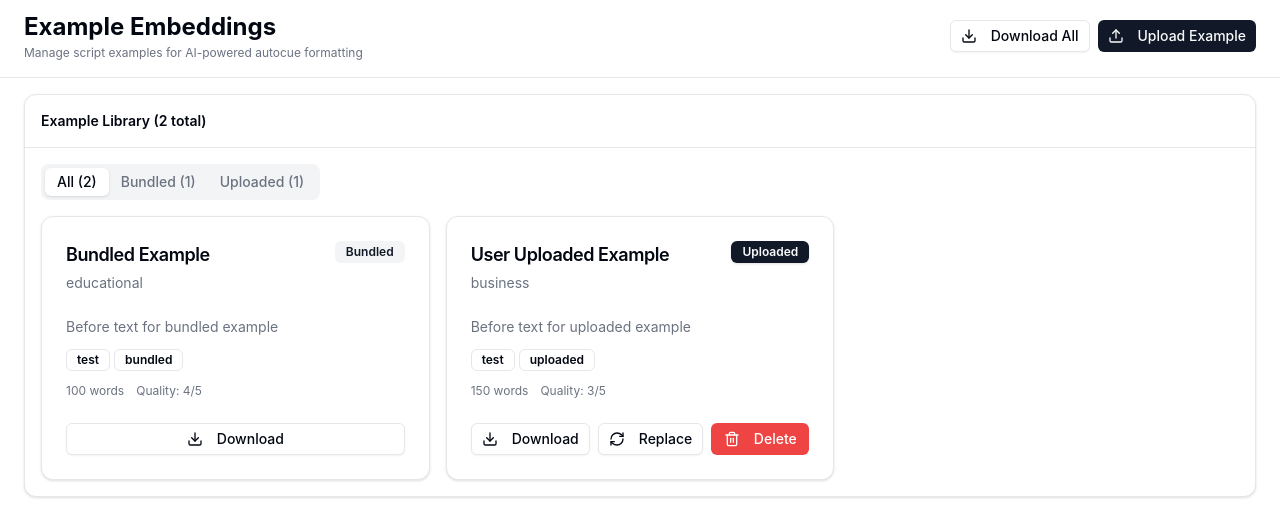
Test: Example Management Integration - Tab Filtering (Bonus) › should filter examples correctly across all tabs
Expected: the tab "All (2)" is shown, 45,168 -> 109,196
Expected: the text "Bundled Example" is shown, 66,244 -> 210,265
Note: Click "Bundled" tab - should show only bundled
Step 1. Click the tab "Bundled (1)" → (158, 182), box 109,168 -> 208,196
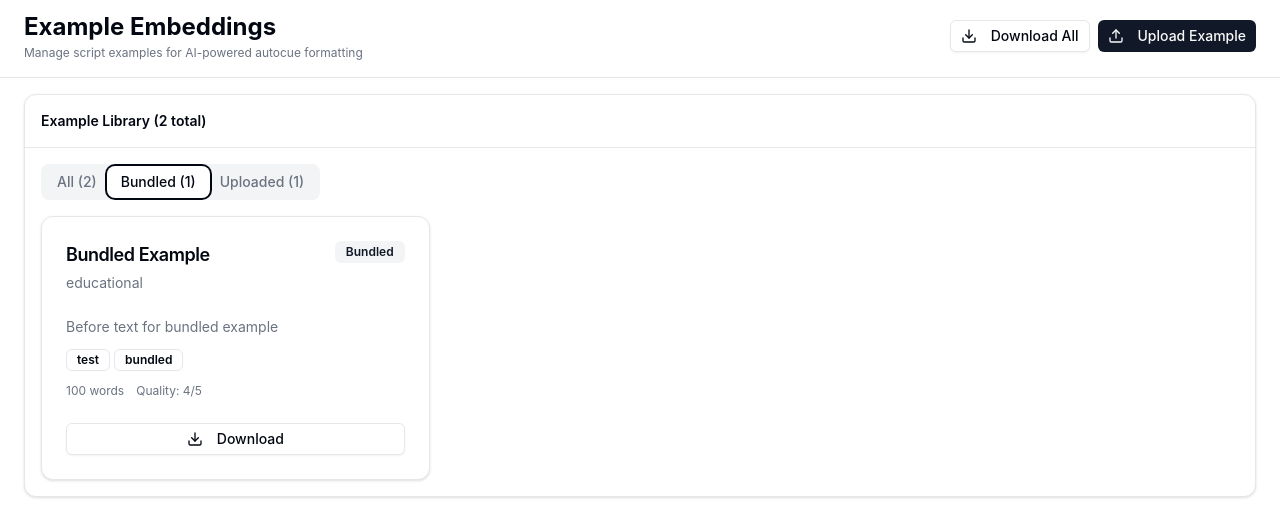
Expected: the text "Bundled Example" is shown, 66,244 -> 210,265
Result: the text "User Uploaded Example" is gone
Note: Click "Uploaded" tab - should show only user-uploaded
Step 2. Click the tab "Uploaded (1)" → (262, 182), box 208,168 -> 316,196
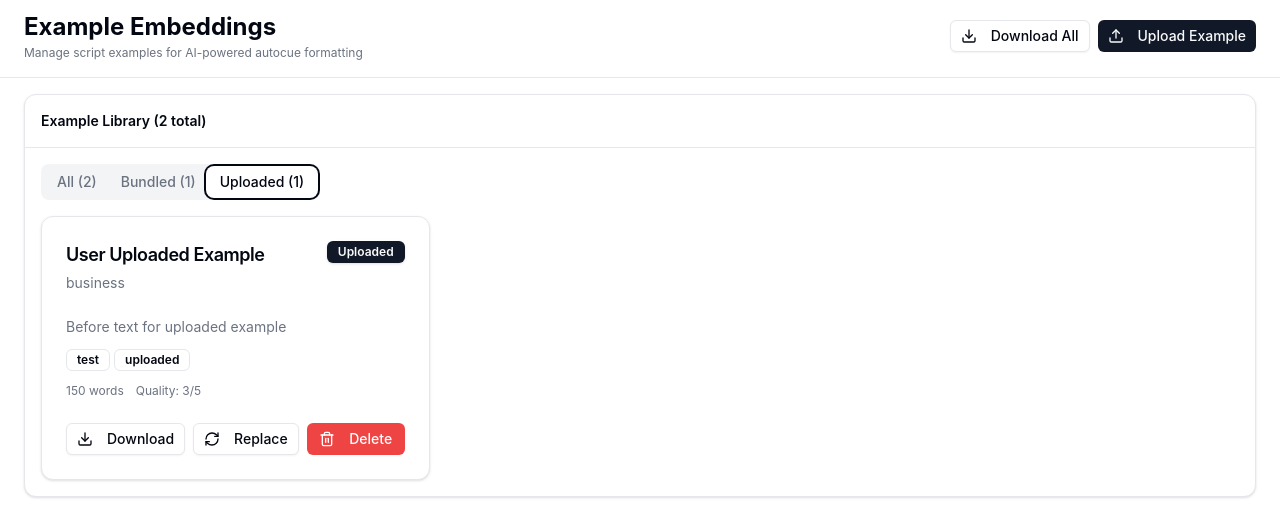
Result: the text "Bundled Example" is gone
Result: the text "User Uploaded Example" is shown at 66,244 -> 265,265
Note: Click back to "All" tab
Step 3. Click the tab "All (2)" → (77, 182), box 45,168 -> 109,196
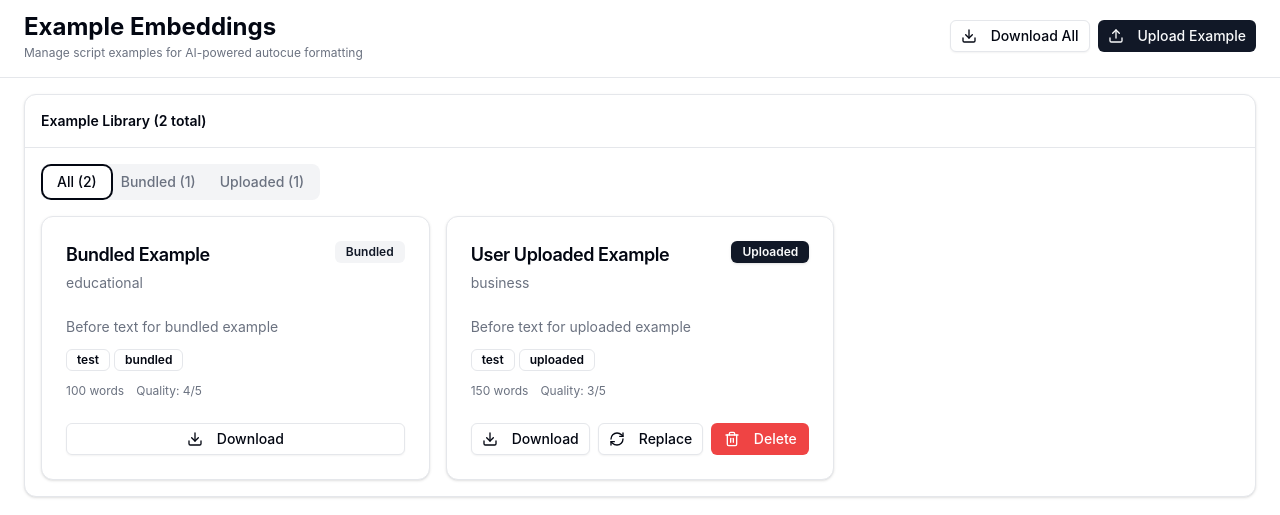
Result: the text "User Uploaded Example" is shown at 471,244 -> 669,265
Result: the text "Bundled Example" is shown at 66,244 -> 210,265
